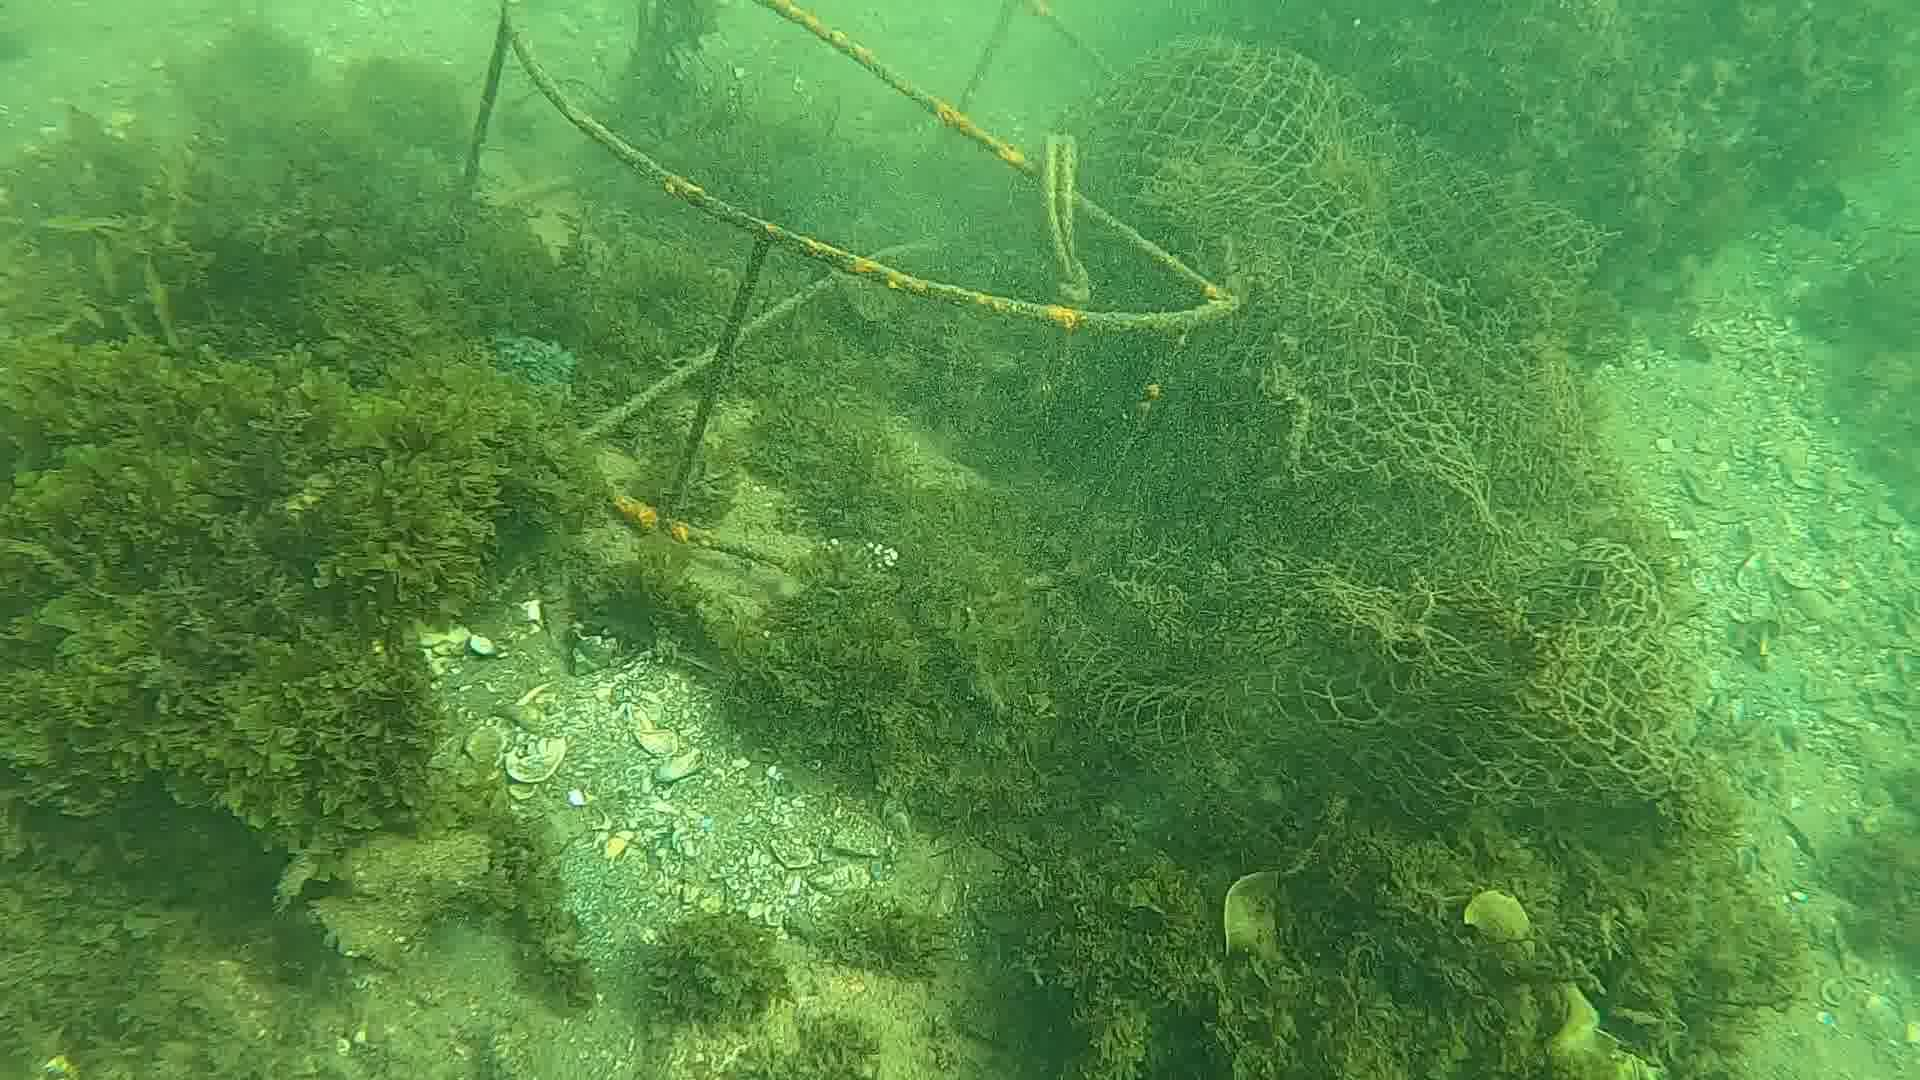bundle of ropes: (1044, 131, 1085, 286)
fish net: (1044, 34, 1698, 820)
